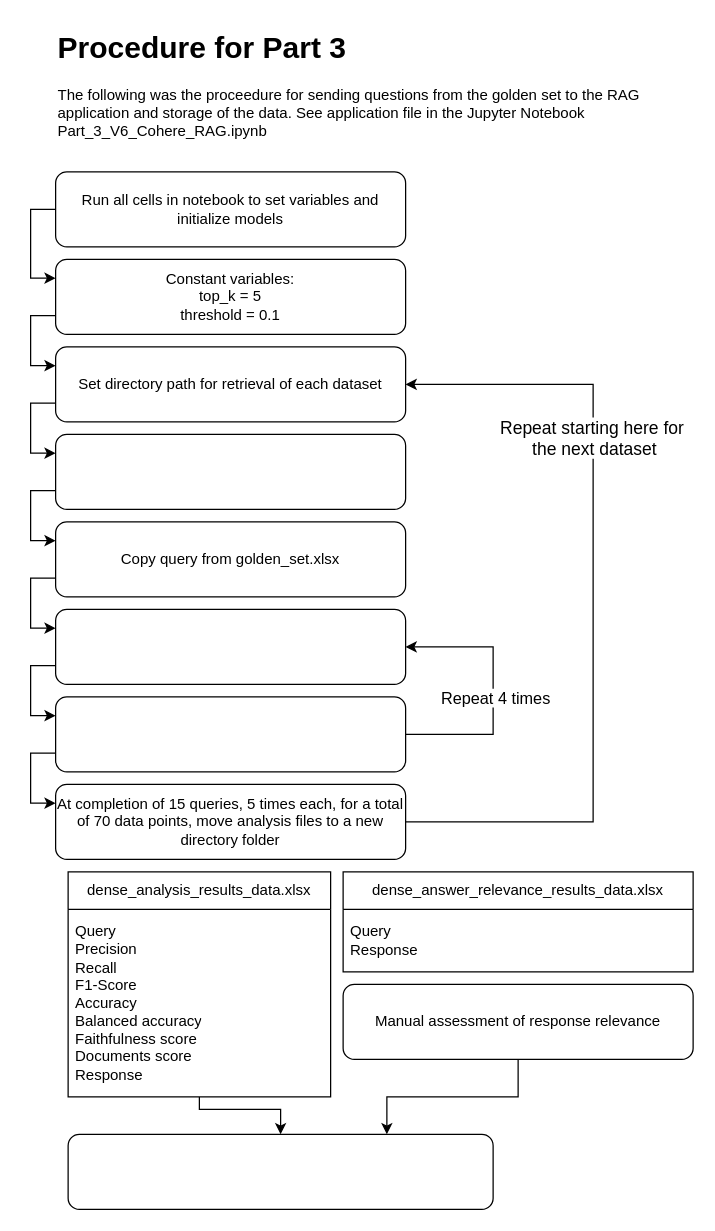
The diagram is 715 pixels wide and 1231 high, and some of its shapes have lost their labels. Here are the shapes that lost their labels. From the top down, the centre of each, then its label:
At [230,471]: "Set ground_truth variable from golden_set.xlsx".
At [230,646]: "Run application and paste query into input text".
At [230,734]: "Repeat 4 times for each question".
At [280,1171]: "Analysis".
